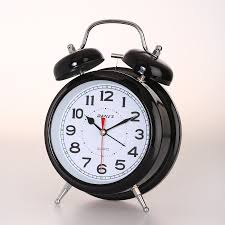alarm_clock: (43, 20, 183, 210), (48, 20, 183, 210)
